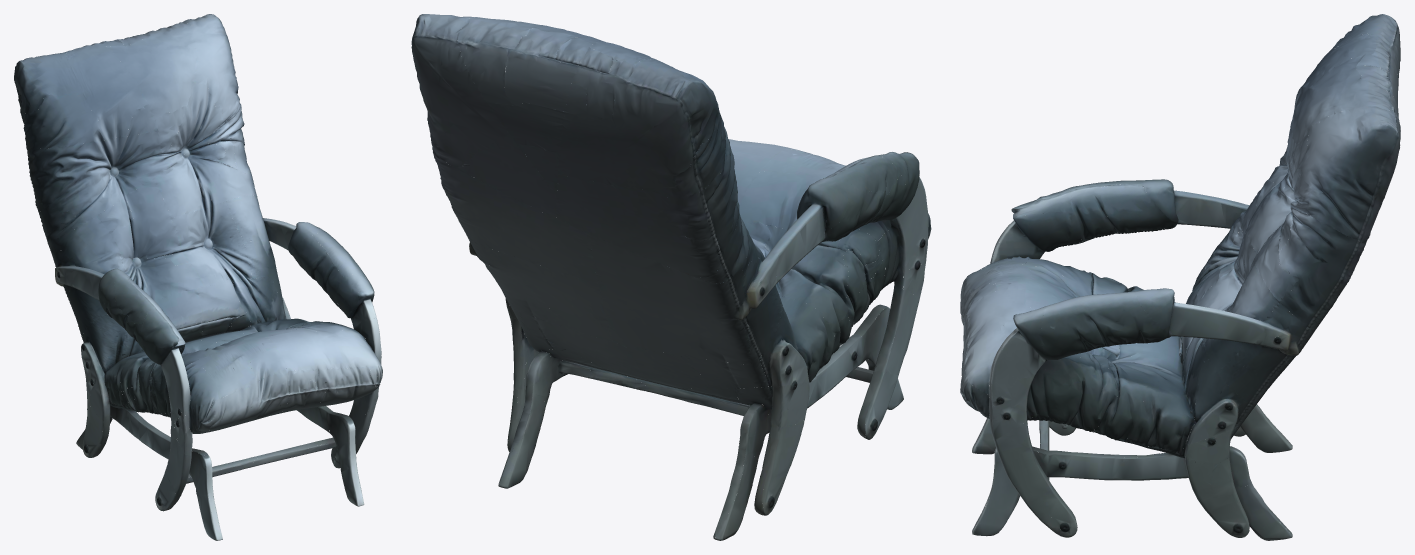
Rendered from ch-glider.glb.
3 renders of one model, left to right at view 1: azimuth 30°, elevation 25°; view 2: azimuth 150°, elevation 25°; view 3: azimuth 270°, elevation 25°, orthographic. The views are drawn at different scales.
Parts seen in each view (by area): view 1: tripo_node_5f1e9f2f-0a56-4d32-b56e-4fd54533e232; view 2: tripo_node_5f1e9f2f-0a56-4d32-b56e-4fd54533e232; view 3: tripo_node_5f1e9f2f-0a56-4d32-b56e-4fd54533e232.
Part boxes in pixels (bbox=[...]): tripo_node_5f1e9f2f-0a56-4d32-b56e-4fd54533e232: bbox=[14, 14, 382, 540]; tripo_node_5f1e9f2f-0a56-4d32-b56e-4fd54533e232: bbox=[411, 14, 931, 540]; tripo_node_5f1e9f2f-0a56-4d32-b56e-4fd54533e232: bbox=[960, 14, 1400, 540].
Bounding box in the file's own units: 0.6624 × 1 × 0.9282.
Materials: 1 (1 with a texture image).
